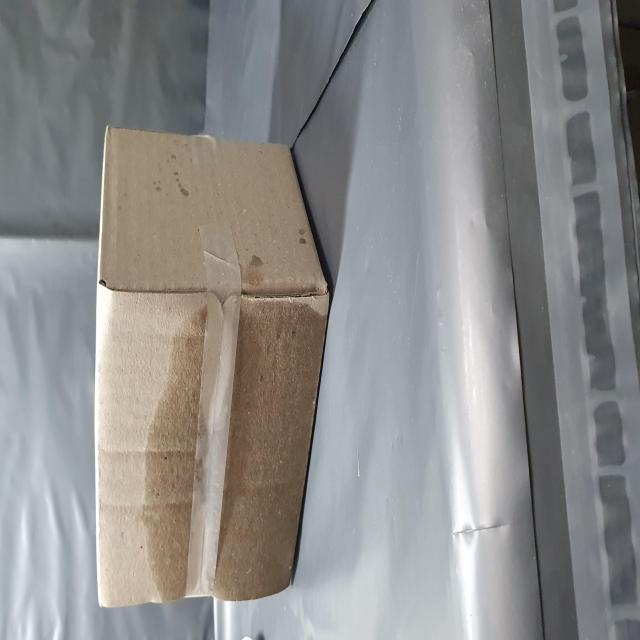wet: (24, 175, 202, 578)
